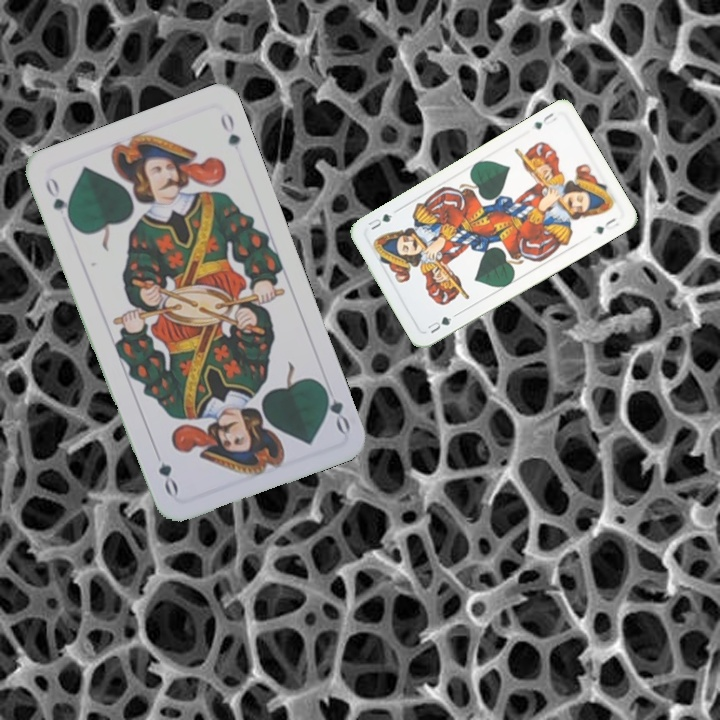GO: (317, 380, 353, 435), (41, 173, 75, 227)
GU: (423, 312, 454, 336), (529, 109, 560, 132)
